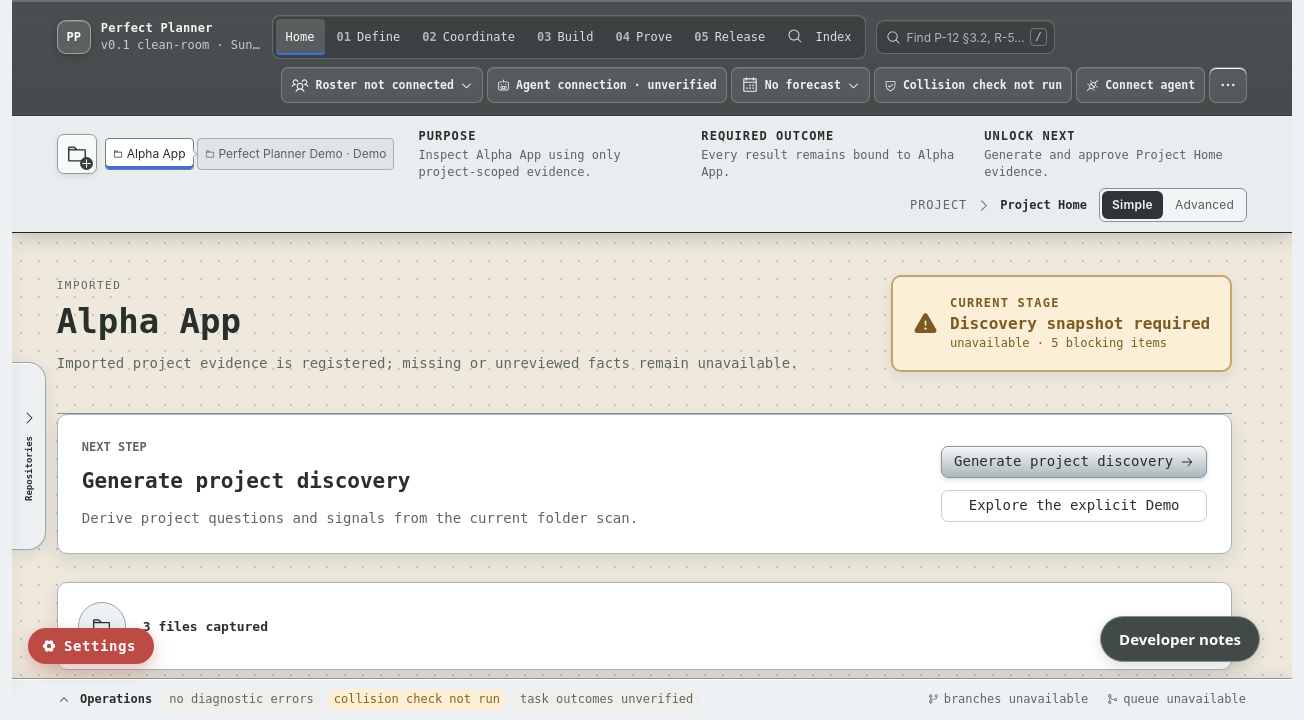
Test case: foundation resilience shell truth boundaries › Demo fixtures appear only while the explicitly labelled Demo project is active
This screenshot has width=1304, height=720.
Expected: the text "PP-014" is not shown
Click the button "Perfect Planner Demo · Demo" at (295, 154), box [196, 138, 394, 170]
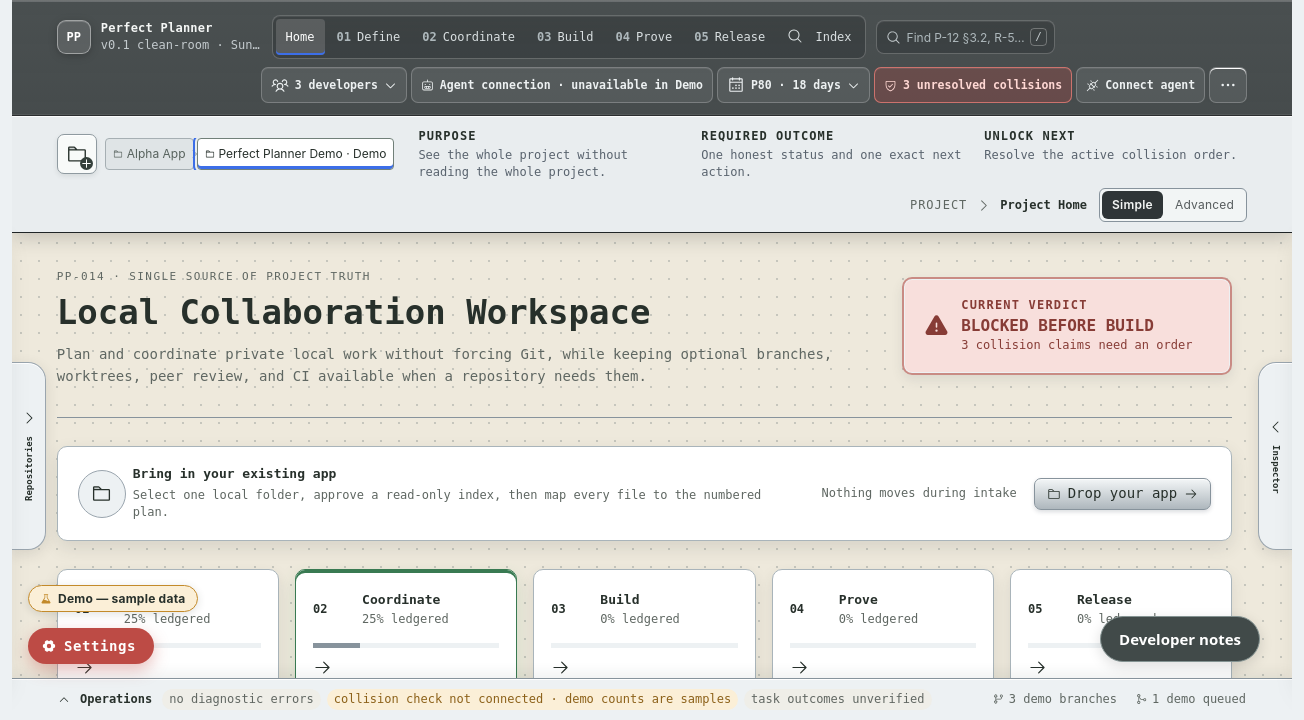
Expected: the text "PP-014" is shown, [57, 270, 371, 283]
Click the button "Alpha App" at (149, 154), box [105, 138, 194, 170]
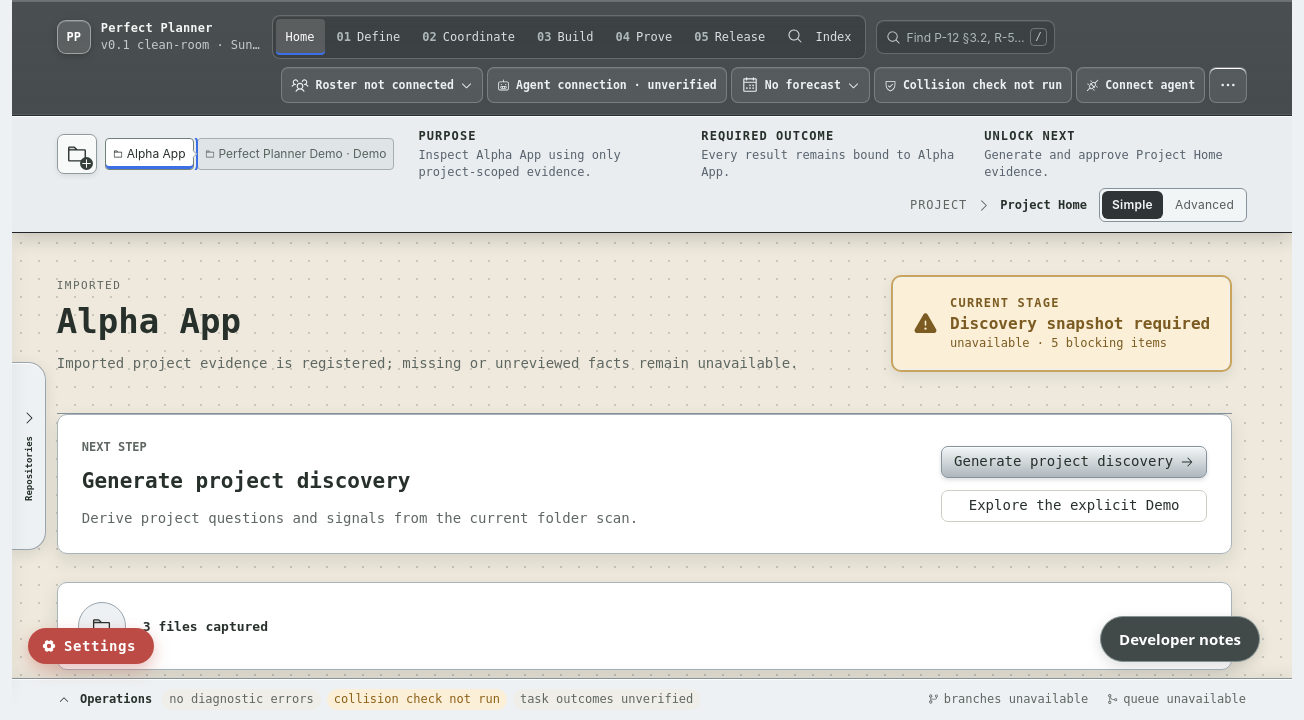
Expected: the text "PP-014" is gone
